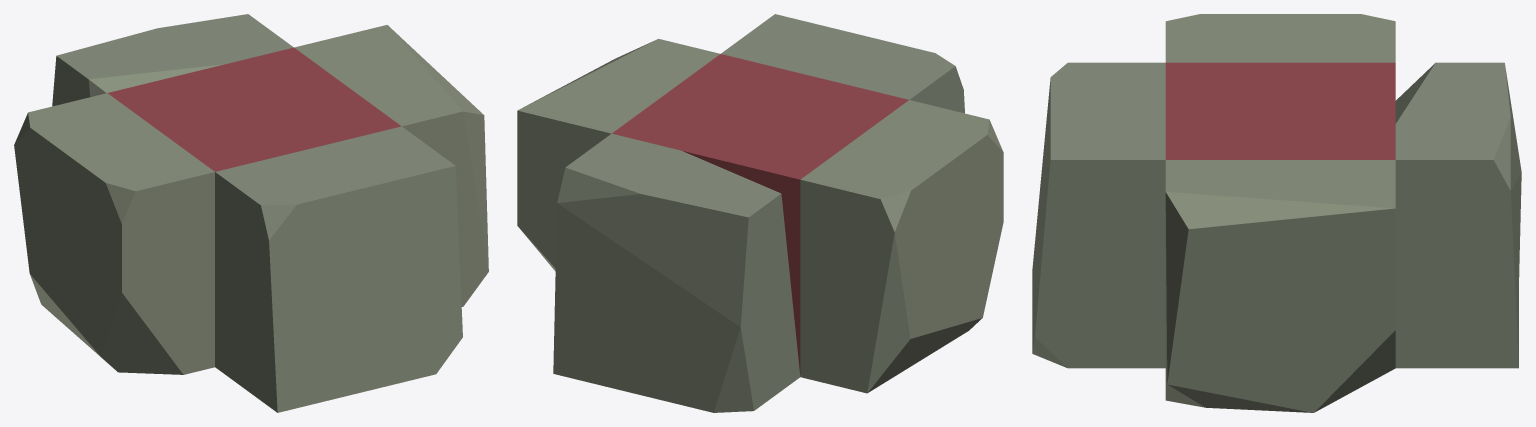
File: pillar_large_segment_3.fbx
3 renders of one model, left to right at view 1: azimuth 30°, elevation 25°; view 2: azimuth 150°, elevation 25°; view 3: azimuth 270°, elevation 25°, orthographic. The views are drawn at different scales.
Visible parts, largest first — view 1: pillar_large_segment_3; view 2: pillar_large_segment_3; view 3: pillar_large_segment_3.
Boxes of the visible parts, bbox=[...] form: pillar_large_segment_3: bbox=[14, 14, 488, 412]; pillar_large_segment_3: bbox=[517, 14, 1003, 412]; pillar_large_segment_3: bbox=[1032, 14, 1521, 412].
Size of the model in its own units: 100 by 50 by 106.
